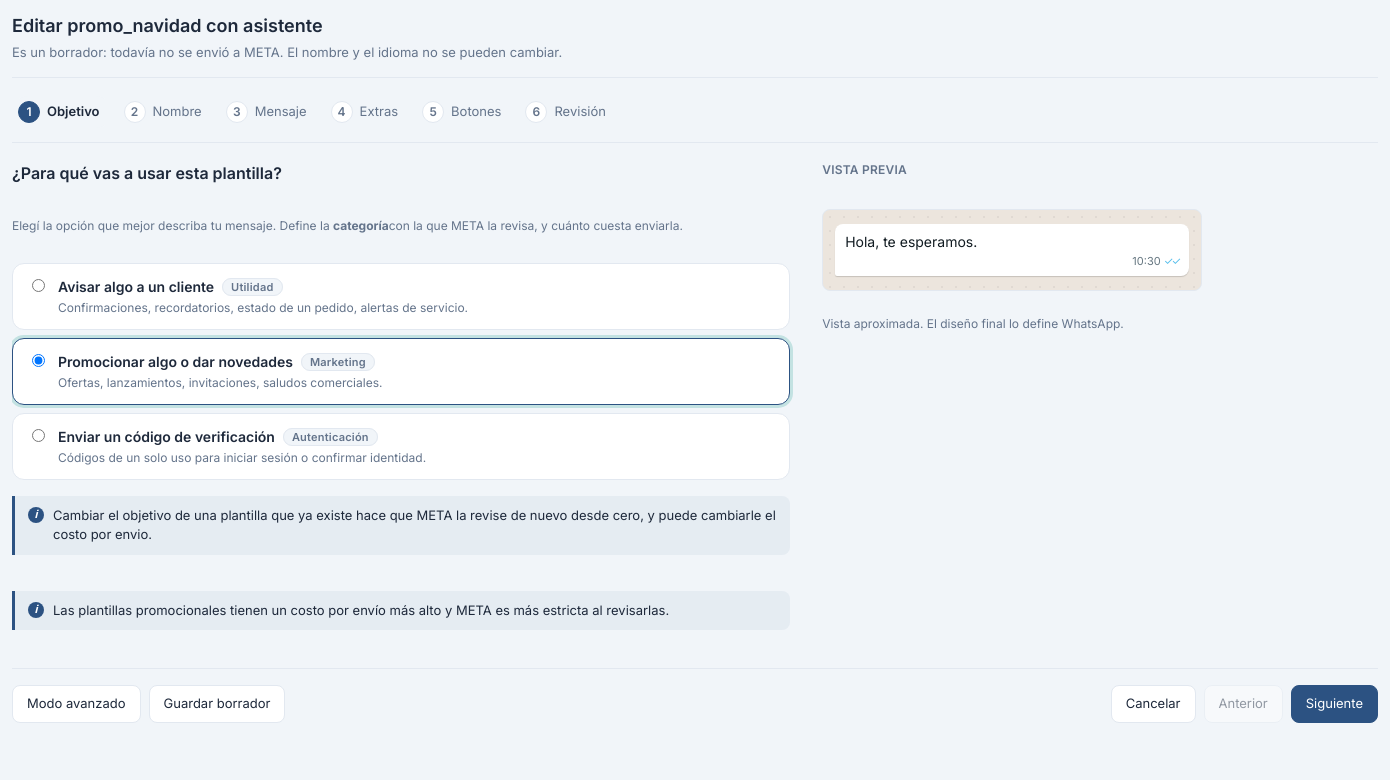
Test: TemplateEditor — editar un borrador › el botón dice "Enviar", no "reenviar": nunca estuvo en revisión
Click the button "6 Revisión": {"x": 569, "y": 112} [519, 96, 618, 128]
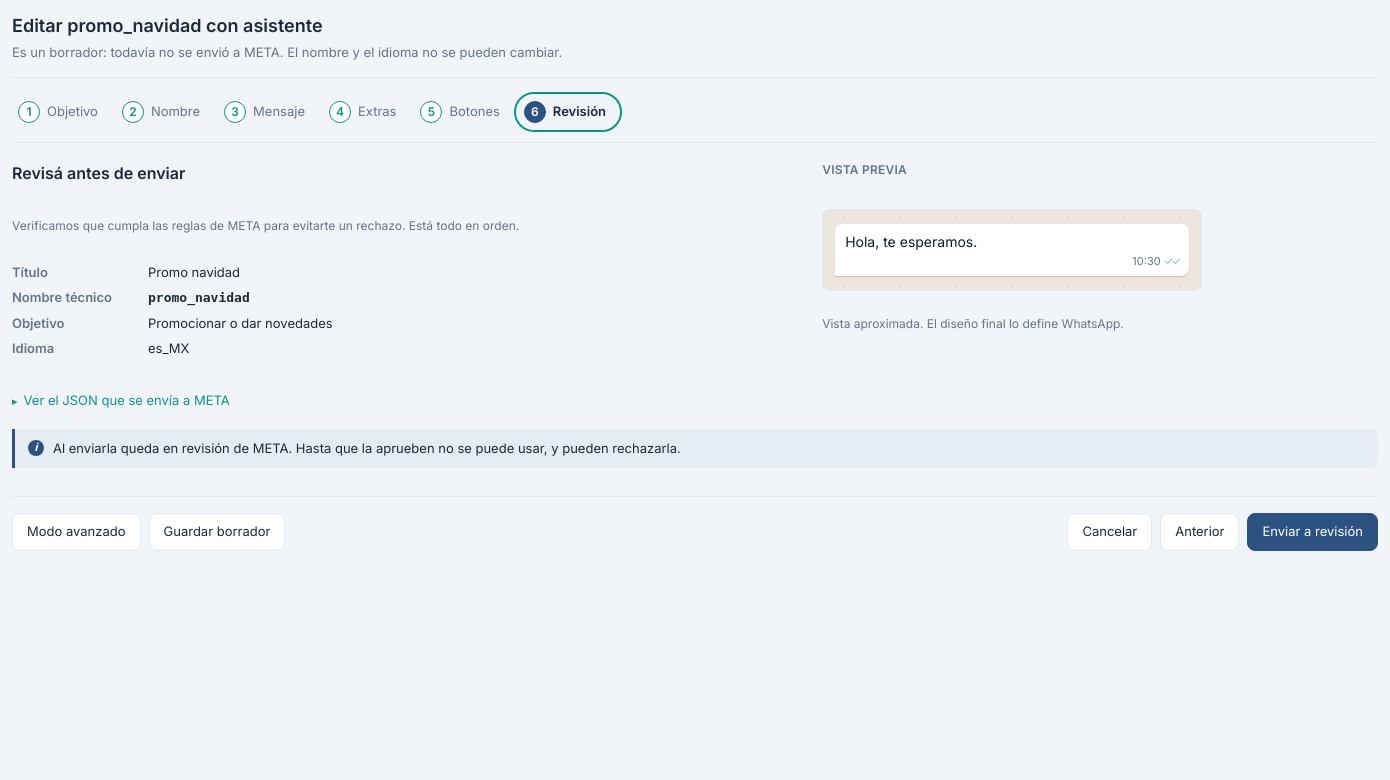
Check: the button "Enviar a revisión" is shown, box [1248, 513, 1378, 550]
